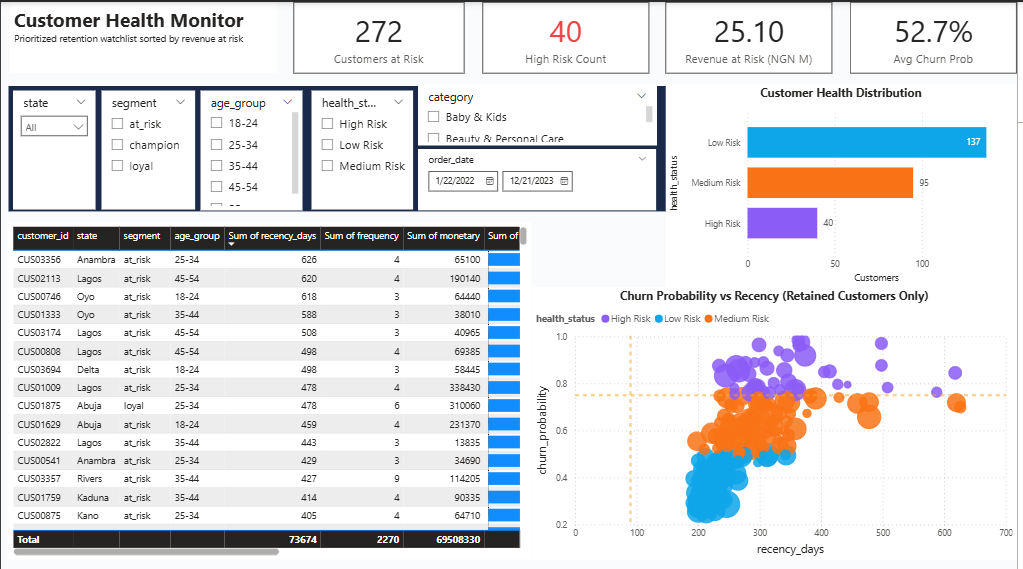

What the dashboard file says about the page in this screenshot:
{"tool":"powerbi","page":{"name":"Customer Health Monitor","canvas":[1280,720],"ordinal":1},"visuals":[{"type":"textbox","box":[10.6,0,336.2,89.3],"z":0},{"type":"card","fields":{"Values":["churn_predictions.Customers at Risk"]},"box":[368.8,0,215,90],"z":1000},{"type":"card","fields":{"Values":["churn_predictions.High Risk Count"]},"box":[605.9,0,210,90],"z":2000},{"type":"card","fields":{"Values":["churn_predictions.Revenue at Risk"]},"box":[837.9,0,210,90],"z":3000},{"type":"card","fields":{"Values":["churn_predictions.Avg Churn Prob"]},"box":[1070,0,210,90],"z":4000},{"type":"tableEx","fields":{"Values":["churn_predictions.customer_id","churn_predictions.state","churn_predictions.segment","churn_predictions.age_group","Sum(churn_predictions.recency_days)","Sum(churn_predictions.frequency)","Sum(churn_predictions.monetary)","Sum(churn_predictions.churn_probability)","Sum(churn_predictions.revenue_at_risk_3m_ngn)","churn_predictions.health_status","customers.preferred_channel","customers.preferred_payment"]},"box":[10,278,658,424],"z":5000},{"type":"clusteredBarChart","title":"Customer Health Distribution","fields":{"Category":["churn_predictions.health_status"],"Y":["CountNonNull(churn_predictions.customer_id)"]},"box":[838,104,442,256],"z":6000},{"type":"scatterChart","title":"Churn Probability vs Recency (Retained Customers Only)","fields":{"X":["churn_predictions.recency_days"],"Y":["churn_predictions.churn_probability"],"Size":["Sum(churn_predictions.revenue_at_risk_3m_ngn)"],"Series":["churn_predictions.health_status"]},"box":[669,359.1,610.4,343.9],"z":7000},{"type":"shape","box":[10,106,828,158],"z":8000},{"type":"slicer","fields":{"Values":["customers.state"]},"box":[16,112,104,150],"z":9000},{"type":"slicer","fields":{"Values":["customers.segment"]},"box":[126,112,118,150],"z":10000},{"type":"slicer","fields":{"Values":["customers.age_group"]},"box":[252,112,128,150],"z":11000},{"type":"slicer","fields":{"Values":["churn_predictions.health_status"]},"box":[392,112,128,150],"z":12000},{"type":"slicer","fields":{"Values":["orders.order_date"]},"box":[526,185,300,77],"z":13000},{"type":"slicer","fields":{"Values":["orders.category"]},"box":[526,104,300,76],"z":14000}]}

Visuals, with their boxes in screenshot pixels (x1, y1, x2, y2), scaled from the page's 1280x720 canvas onto the 1023x569 screenshot:
textbox: crop(8, 0, 277, 71)
card - churn_predictions.Customers at Risk: crop(295, 0, 467, 71)
card - churn_predictions.High Risk Count: crop(484, 0, 652, 71)
card - churn_predictions.Revenue at Risk: crop(670, 0, 838, 71)
card - churn_predictions.Avg Churn Prob: crop(855, 0, 1022, 71)
tableEx - churn_predictions.customer_id x churn_predictions.state: crop(8, 220, 534, 555)
"Customer Health Distribution" clusteredBarChart: crop(670, 82, 1022, 284)
"Churn Probability vs Recency (Retained Customers Only)" scatterChart: crop(535, 284, 1022, 556)
shape: crop(8, 84, 670, 209)
slicer - customers.state: crop(13, 89, 96, 207)
slicer - customers.segment: crop(101, 89, 195, 207)
slicer - customers.age_group: crop(201, 89, 304, 207)
slicer - churn_predictions.health_status: crop(313, 89, 416, 207)
slicer - orders.order_date: crop(420, 146, 660, 207)
slicer - orders.category: crop(420, 82, 660, 142)
